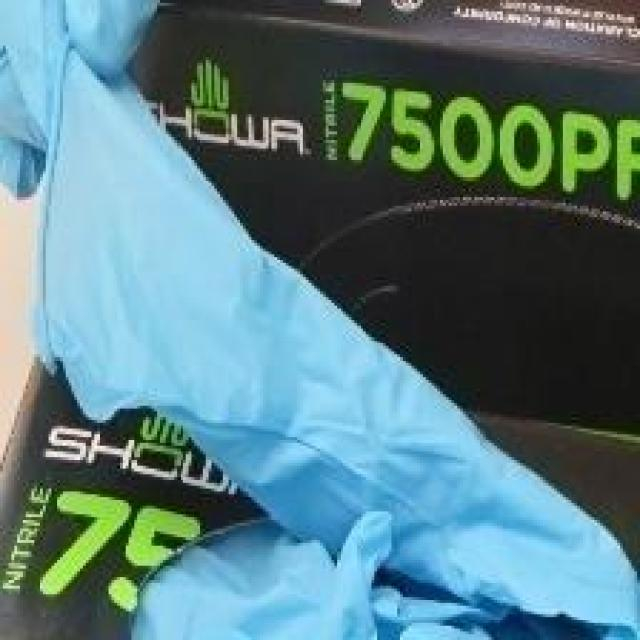Glove: (34, 51, 639, 640)
